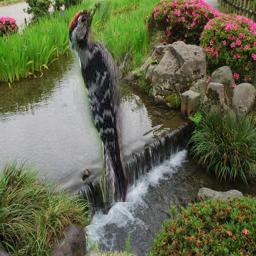Woodpecker: (69, 2, 133, 203)
